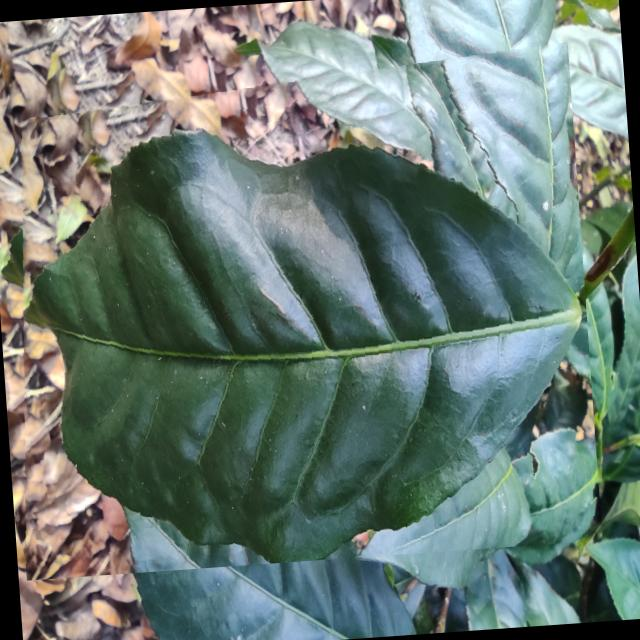Category D(7+ days, Not for Tea): (0, 39, 601, 580)
